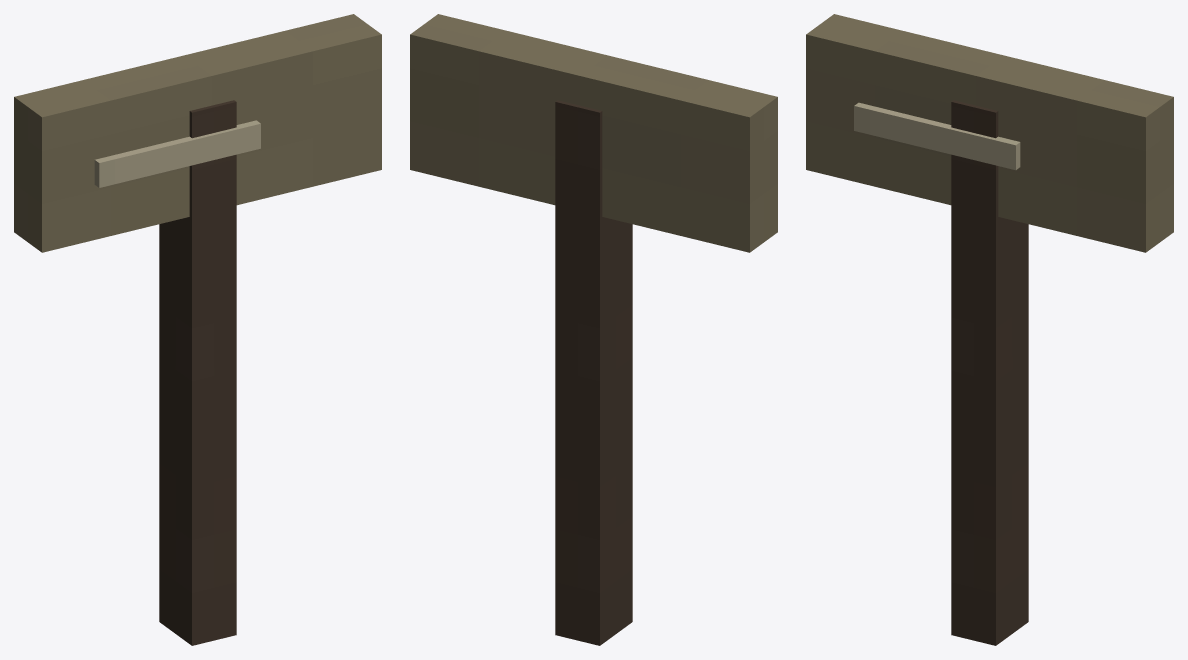
File: evac.glb
The picture shows the model from 3 angles, left to right: view 1: azimuth 30°, elevation 25°; view 2: azimuth 150°, elevation 25°; view 3: azimuth 330°, elevation 25°; orthographic projection.
Visible parts, largest first — view 1: Housing; view 2: Housing; view 3: Housing.
Part boxes in pixels (left/top/right/bottom): Housing: left=14, top=14, right=381, bottom=645; Housing: left=410, top=14, right=777, bottom=645; Housing: left=806, top=14, right=1173, bottom=645.
Bounding box in the file's own units: 0.84 × 1.33 × 0.1495.
Materials: 3 (3 with a texture image).
